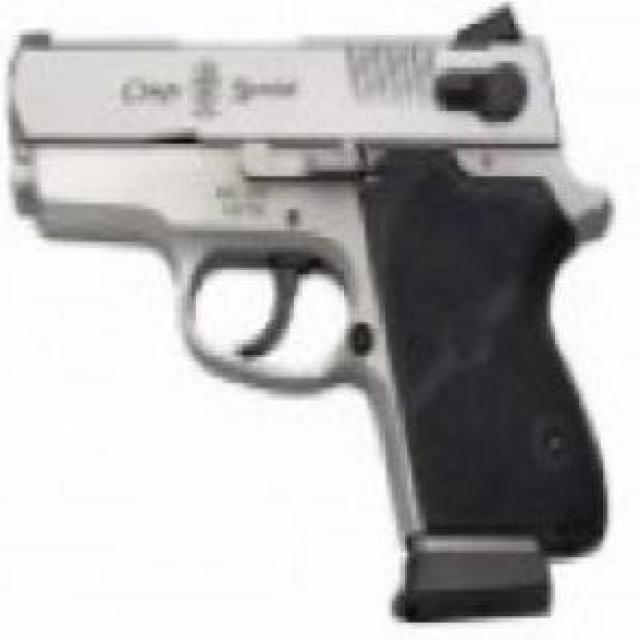pistol: (4, 19, 611, 640)
